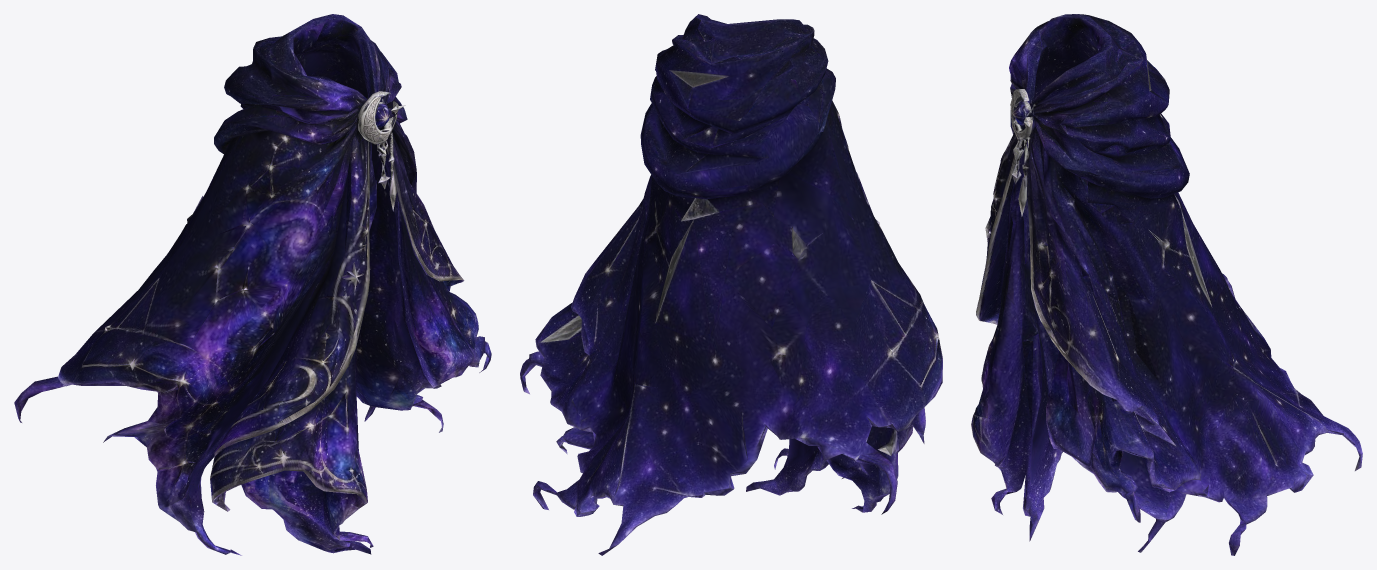
Rendered from voidwoven_mantle.glb.
3 renders of one model, left to right at view 1: azimuth 30°, elevation 25°; view 2: azimuth 150°, elevation 25°; view 3: azimuth 270°, elevation 25°, orthographic. The views are drawn at different scales.
Bounding box in the file's own units: 1.75 × 2 × 1.42.
Materials: 1 (1 with a texture image).
